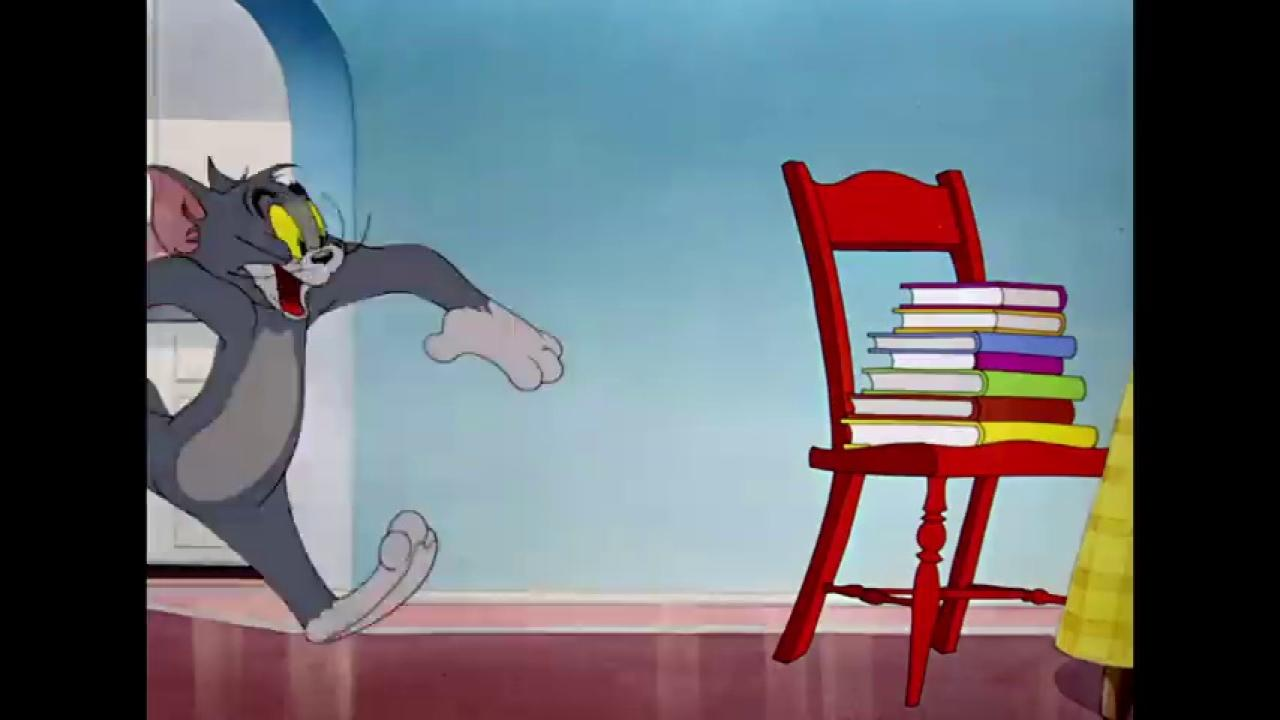Tom: (148, 153, 565, 647)
